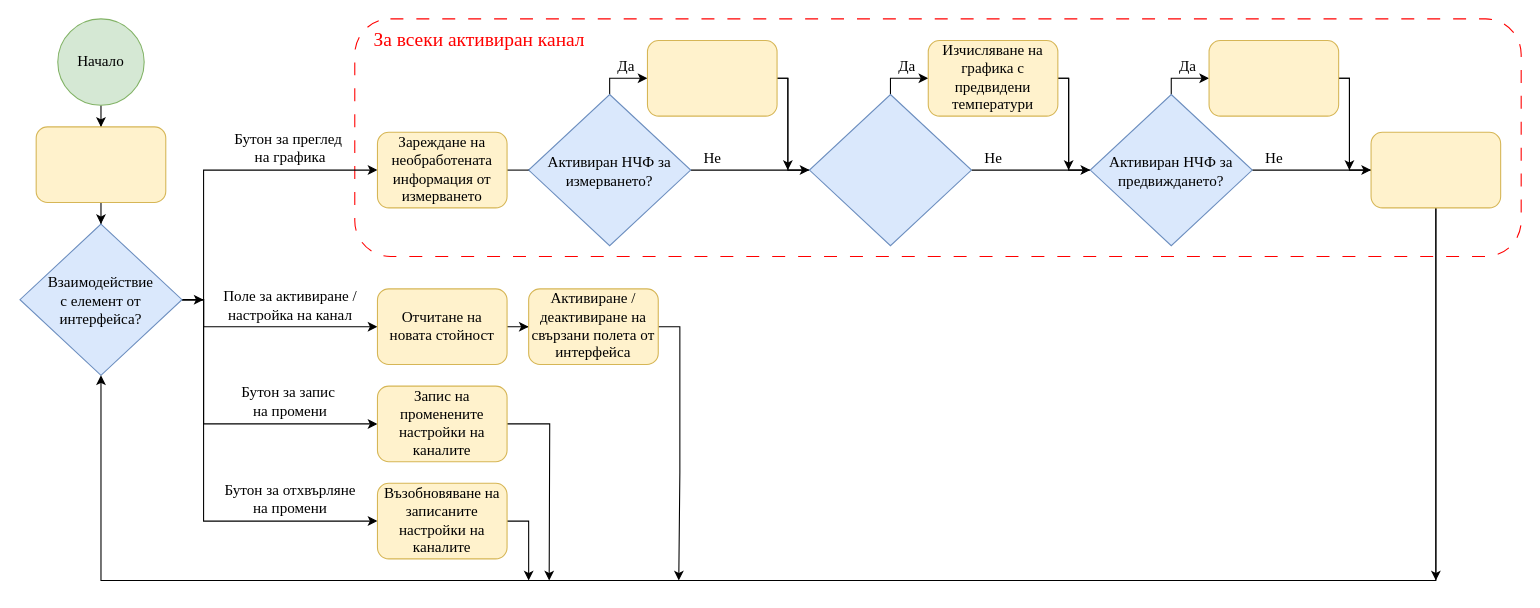
The diagram is 1540 pixels wide and 608 high, and some of its shapes have lost their labels. Here are the shapes that lost their labels. From the top down, the centre of each, then its label:
At point (711, 77): "Прилагане на НЧФ върху данните от измерването".
At point (1273, 77): "Прилагане на НЧФ върху данните от предвиждането".
At point (100, 164): "Инициализация на потребителския интерфейс".
At point (889, 169): "Активирано предвиждане на температурата?".
At point (1435, 169): "Изчертаване на графиката".
